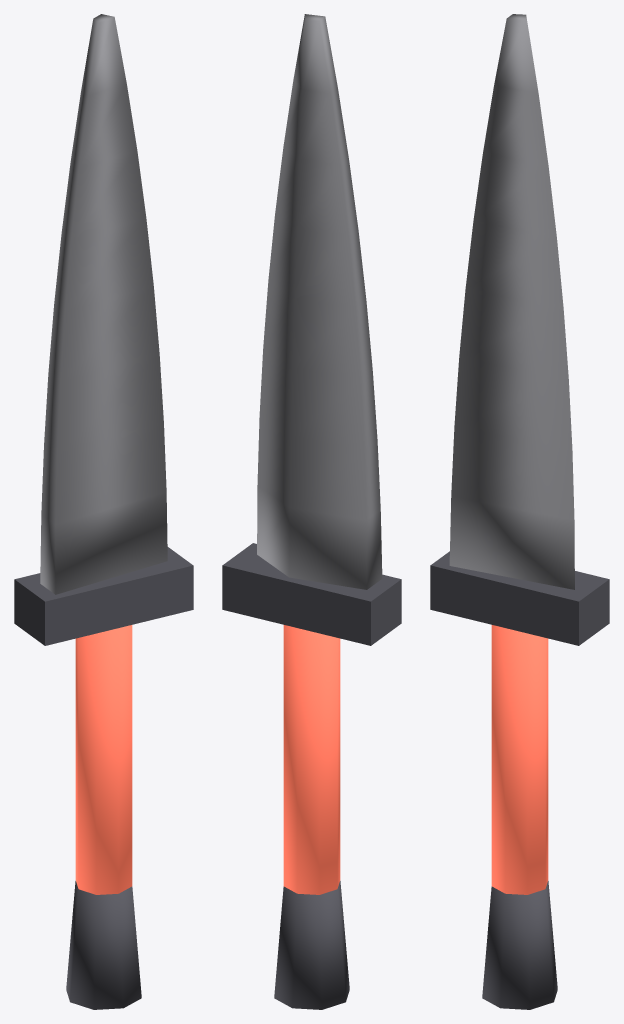
File: w_ash_dirk.glb
3 renders of one model, left to right at view 1: azimuth 30°, elevation 25°; view 2: azimuth 150°, elevation 25°; view 3: azimuth 330°, elevation 25°, orthographic.
Visible parts, largest first — view 1: w_ash_dirk; view 2: w_ash_dirk; view 3: w_ash_dirk.
Part boxes in pixels (x1,y1,x2,y2): w_ash_dirk: (14,14,193,1009); w_ash_dirk: (222,14,401,1009); w_ash_dirk: (430,14,609,1009).
Size of the model in its own units: 0.07 by 0.44 by 0.032.
